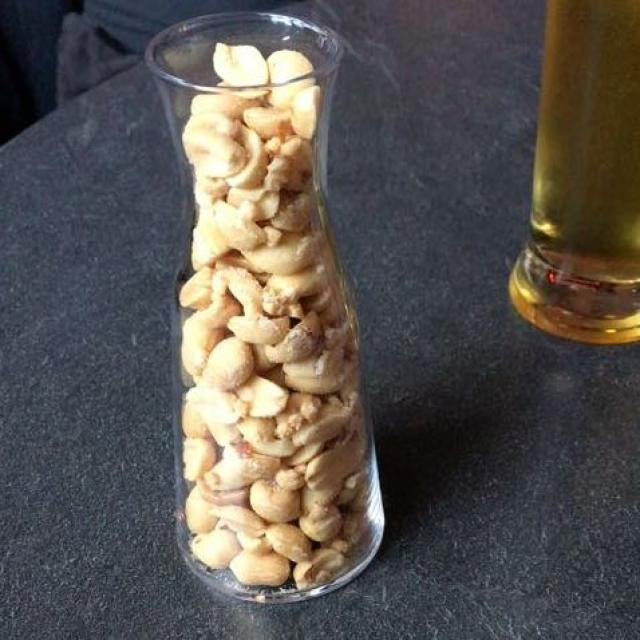nut: (179, 50, 377, 579)
